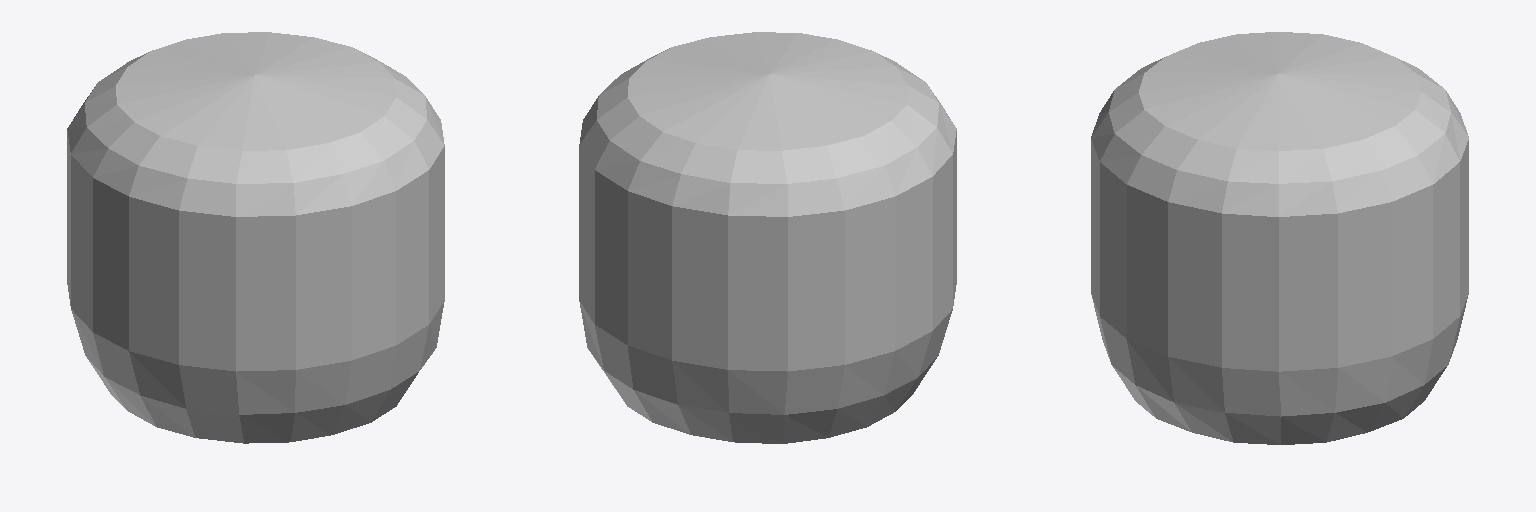
Rendered from Owl Girl.obj.
The picture shows the model from 3 angles: view 1: azimuth 30°, elevation 25°; view 2: azimuth 150°, elevation 25°; view 3: azimuth 270°, elevation 25°; orthographic projection.
Parts seen in each view (by area): view 1: model_5; view 2: model_5; view 3: model_5.
Part boxes in pixels (left/top/right/bottom): model_5: left=67, top=32, right=444, bottom=443; model_5: left=579, top=32, right=956, bottom=443; model_5: left=1091, top=32, right=1468, bottom=444.
Bounding box in the file's own units: 22.54 × 23.87 × 22.54.